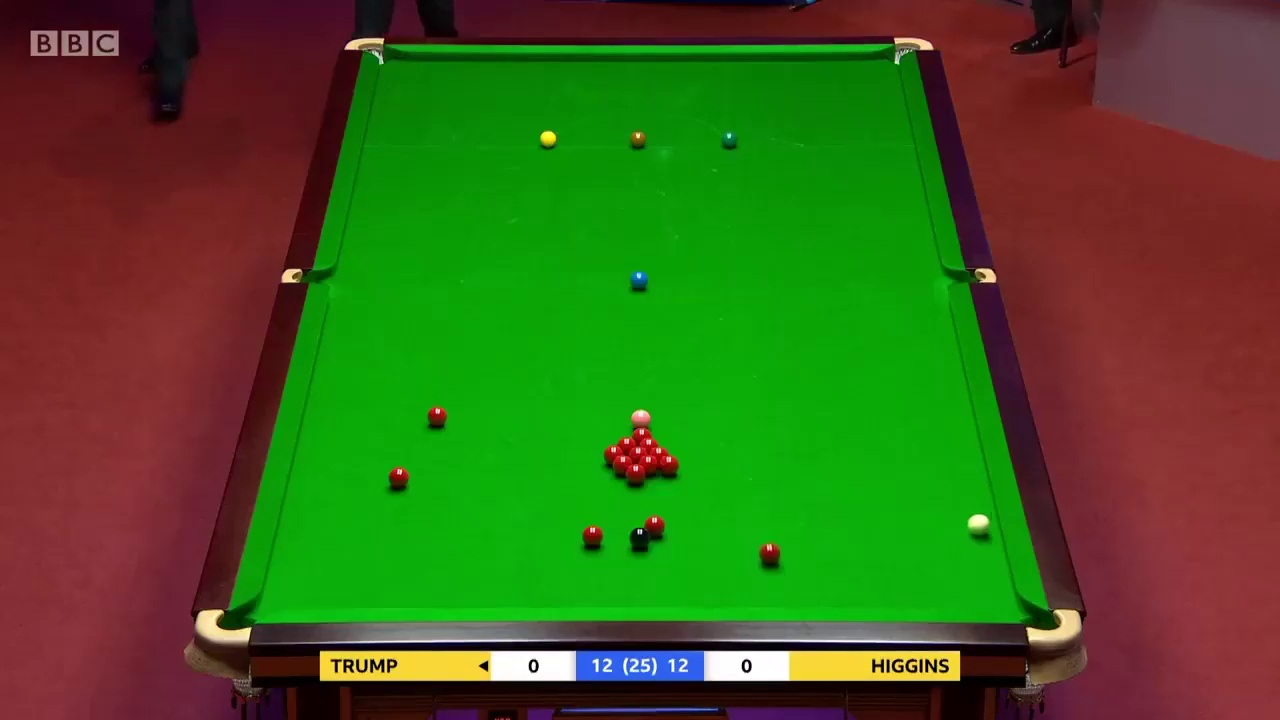black: (631, 530, 650, 547)
blue: (629, 271, 649, 289)
brown: (628, 131, 645, 147)
green: (722, 130, 738, 148)
pink: (630, 409, 651, 425)
red: (645, 513, 665, 538), (582, 525, 603, 546), (760, 544, 783, 563), (389, 467, 408, 488), (662, 455, 679, 476), (628, 463, 644, 483), (427, 409, 447, 424)
white: (969, 513, 990, 540)
yellow: (539, 131, 556, 147)
